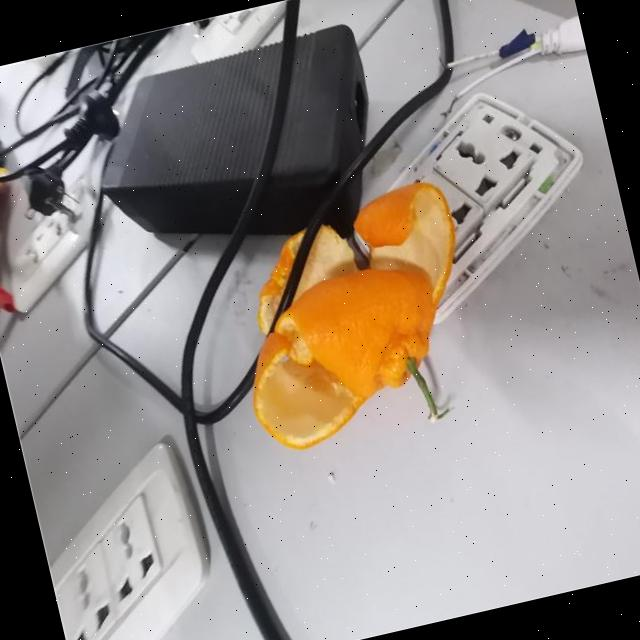orange-peel: (210, 174, 497, 458)
